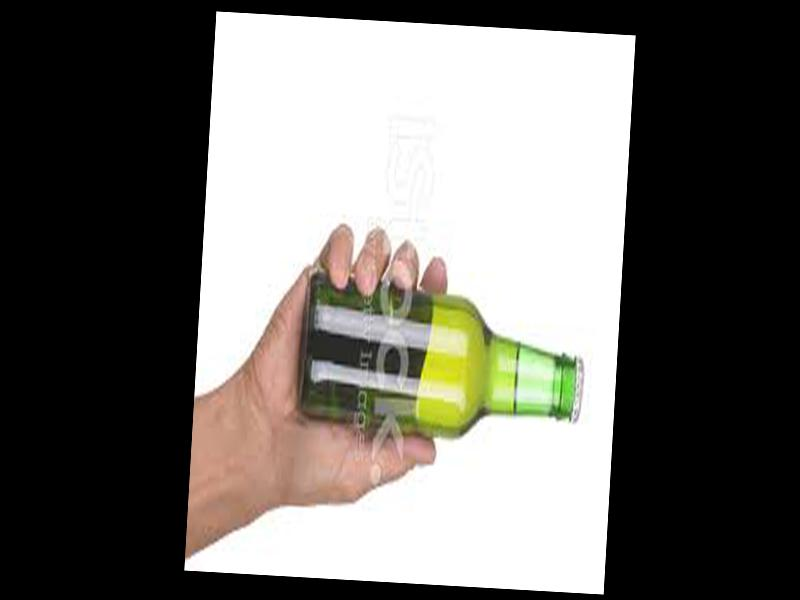Beer: (296, 280, 588, 449)
